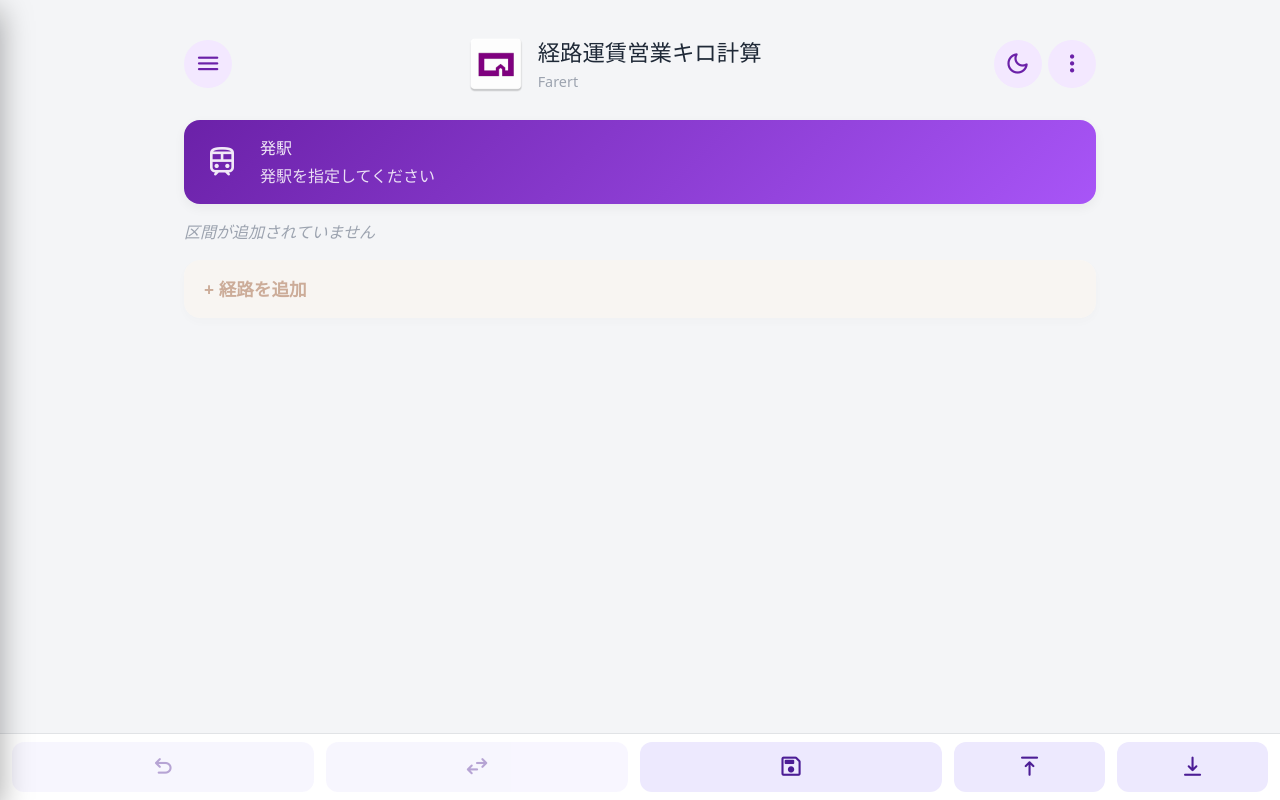
Test case: /+page.svelte › shows drawer delete buttons only after entering edit mode
Step 1. Click the button named "きっぷホルダ" → (208, 64), box [184, 40, 232, 88]
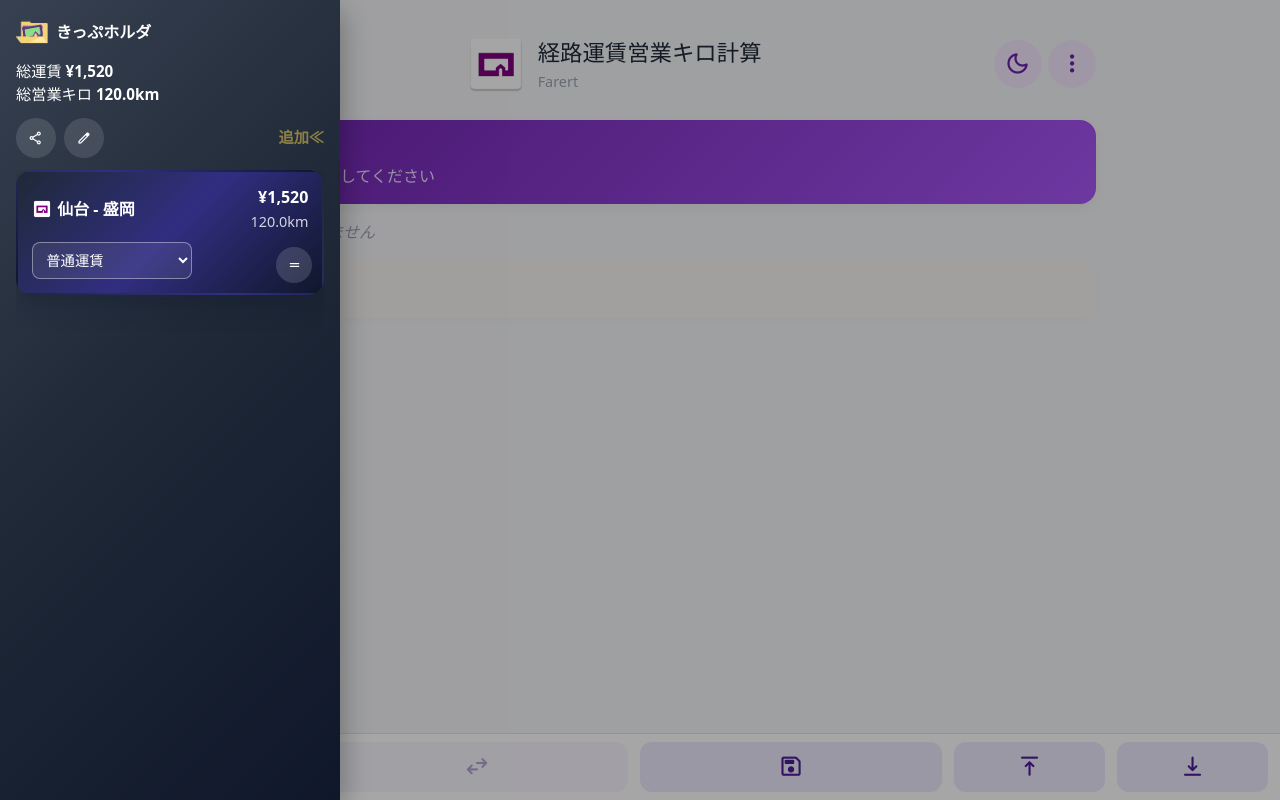
Step 2. Click the button named "編集" → (84, 138), box [64, 118, 104, 158]
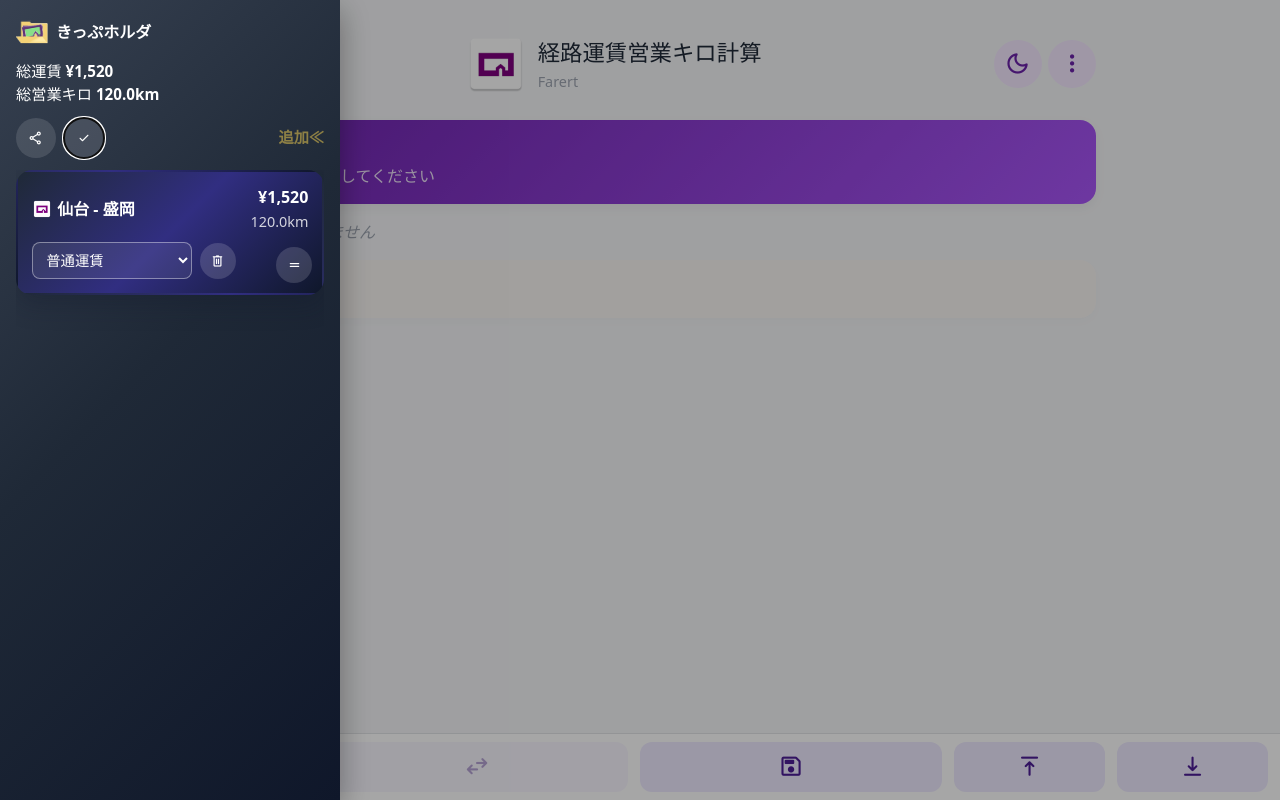
Expected: the button named "削除" is shown, [200, 243, 236, 279]
